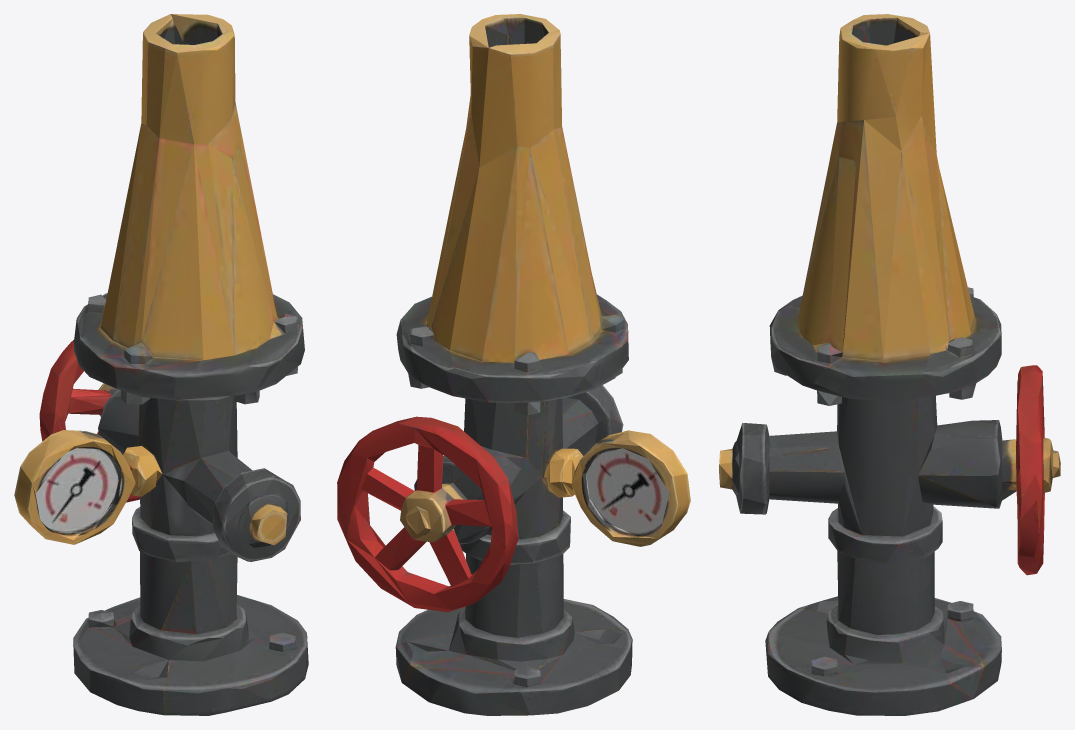
The model's file is whistle.glb.
3 views of the same model, side by side, from view 1: azimuth 30°, elevation 25°; view 2: azimuth 150°, elevation 25°; view 3: azimuth 270°, elevation 25° (orthographic).
Size of the model in its own units: 0.8484 by 1.9 by 0.923.
Materials: 1 (1 with a texture image).
